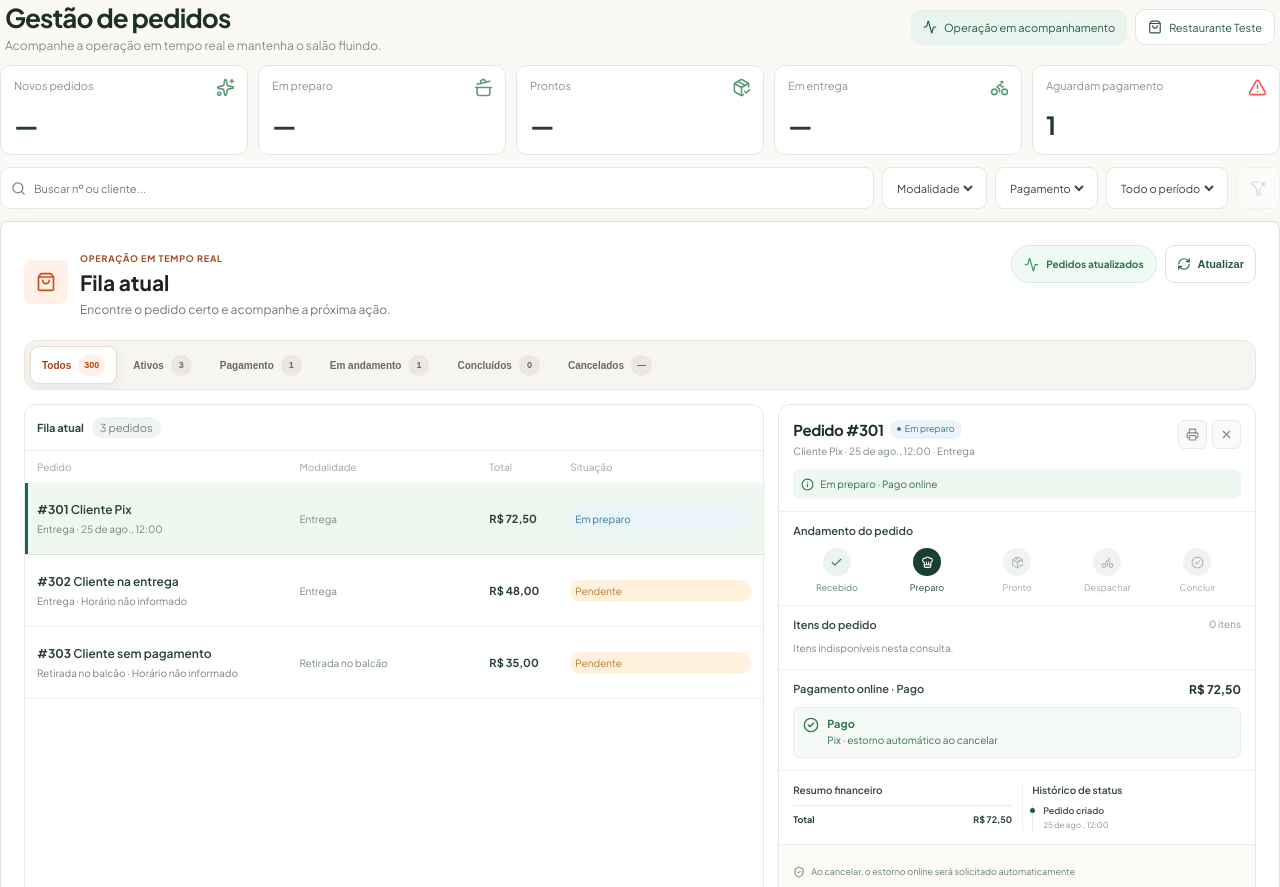
it: AdminOrders › informa devolução manual para pagamento recebido na entrega
Click the button with aria-label "Ver detalhes do pedido #302 de Cliente na entrega": (54, 581) [25,555,763,627]
(page scrolled)
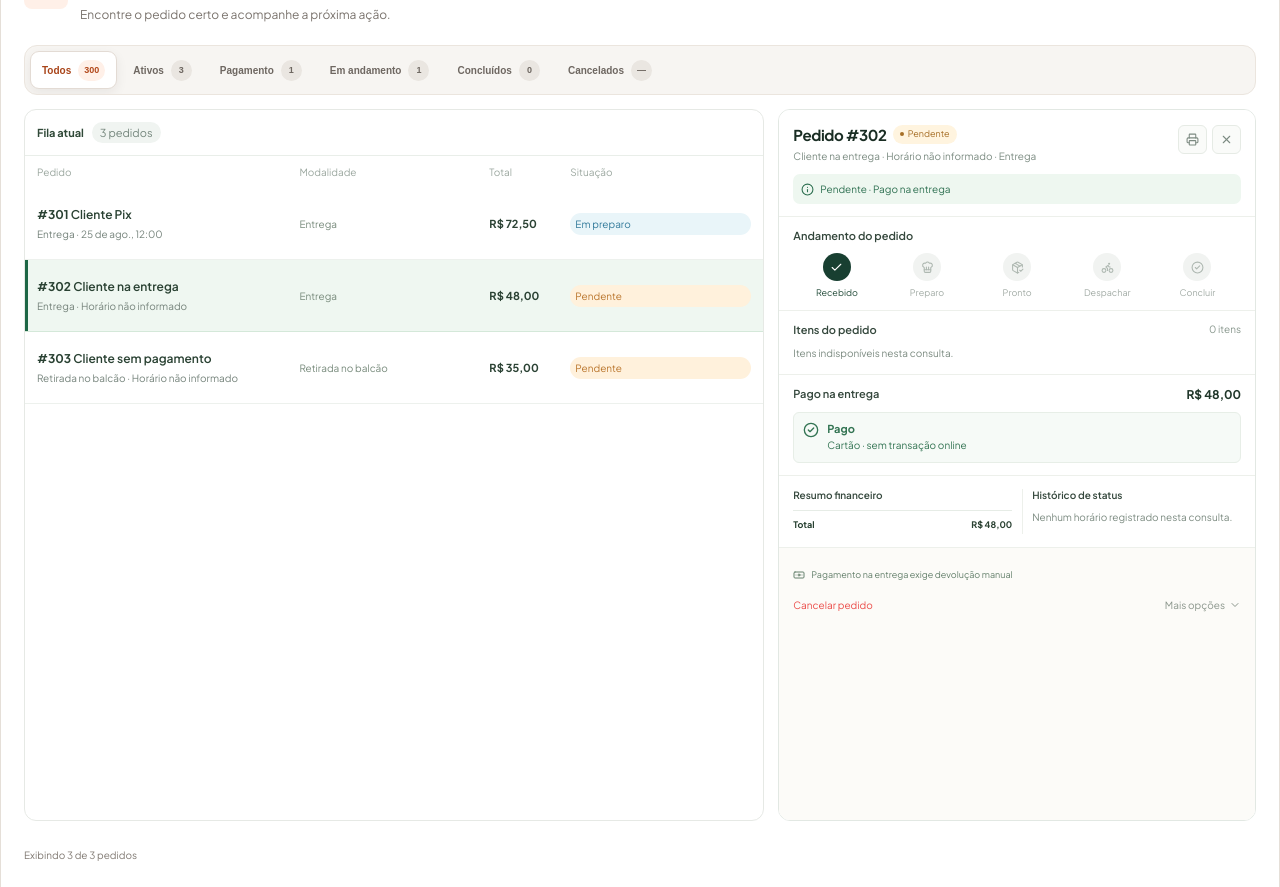
Check: the element with class "selected-order-detail" is shown, box [778,109,1256,821]
Check: the number of elements with class "order-card" is 1, box [779,110,1255,820]
Click the button "Cancelar pedido": (833, 604) [793,590,873,620]
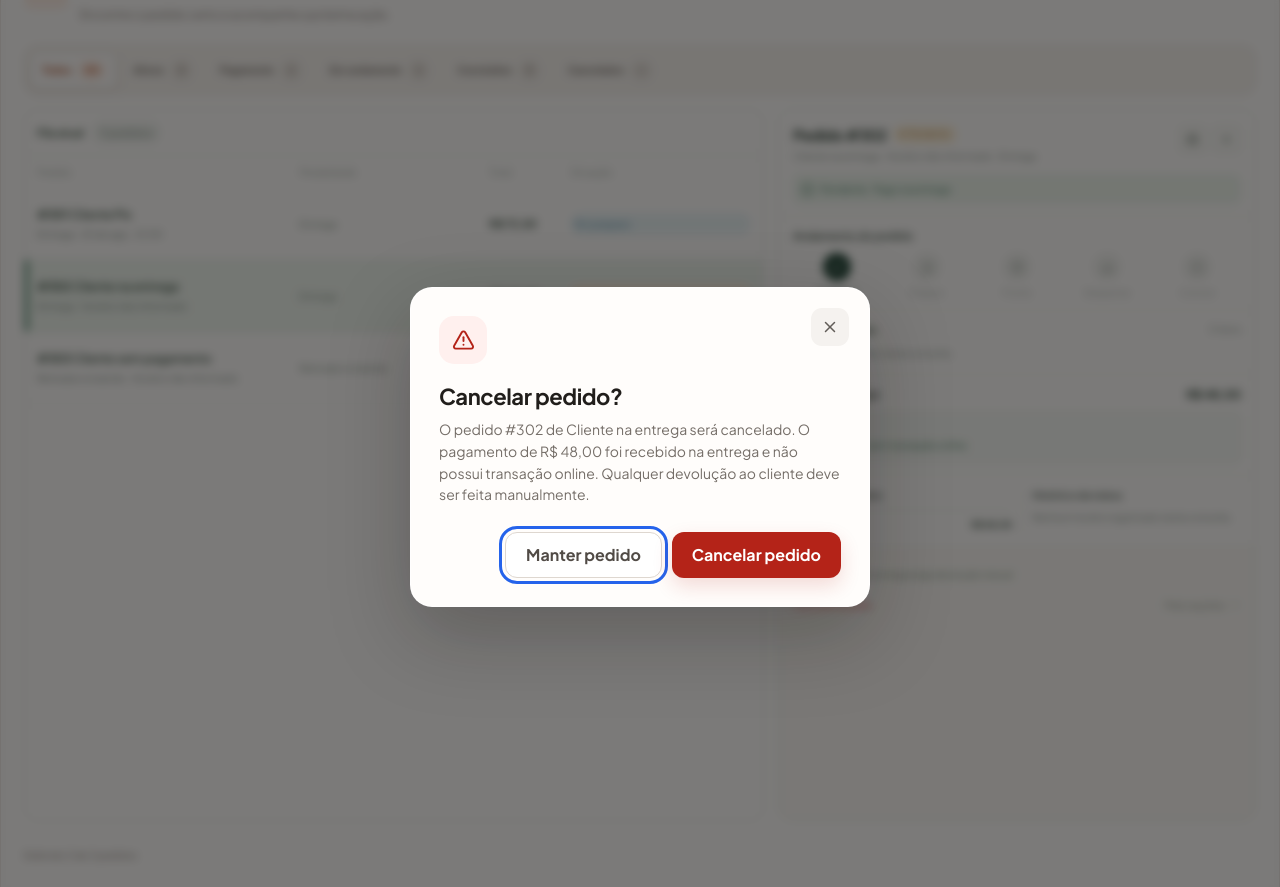
Check: the text "não possui transação online" is shown, box [439,420,840,503]
Check: the text "deve ser feita manualmente" is shown, box [439,420,840,503]
